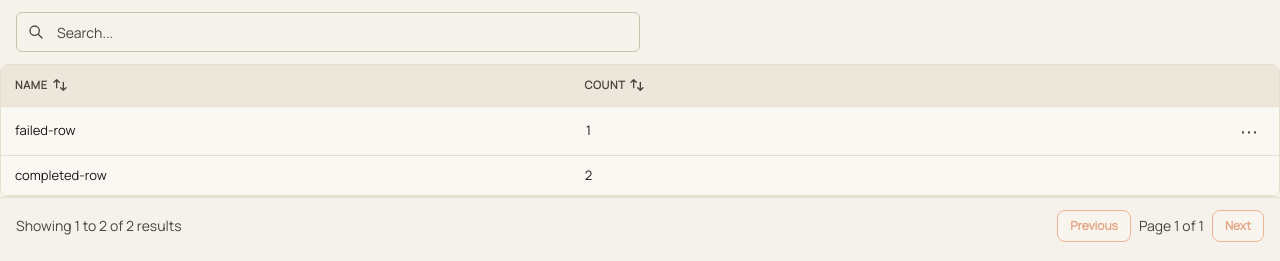
DataTable row actions menu › opens a dropdown listing the actions and runs the chosen one
Step 1. Click the button named "Actions" → [1249, 130], box x1=1233 y1=116 x2=1265 y2=144
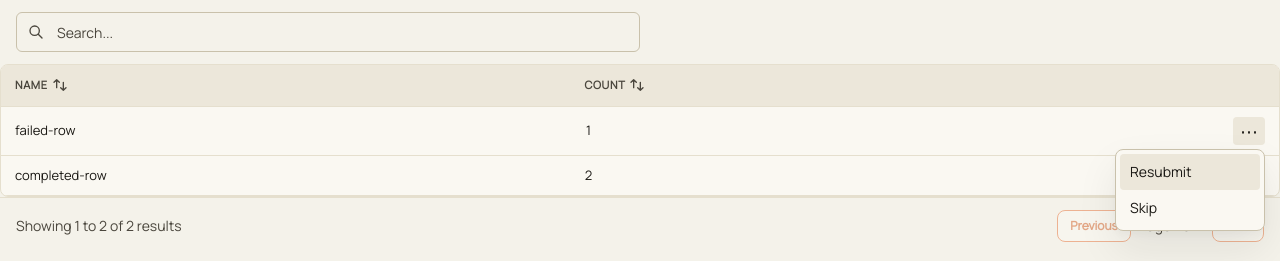
Check: the menu item "Skip" is shown, box x1=1120 y1=190 x2=1260 y2=226
Step 2. Click the menu item "Resubmit" → [1190, 172], box x1=1120 y1=154 x2=1260 y2=190
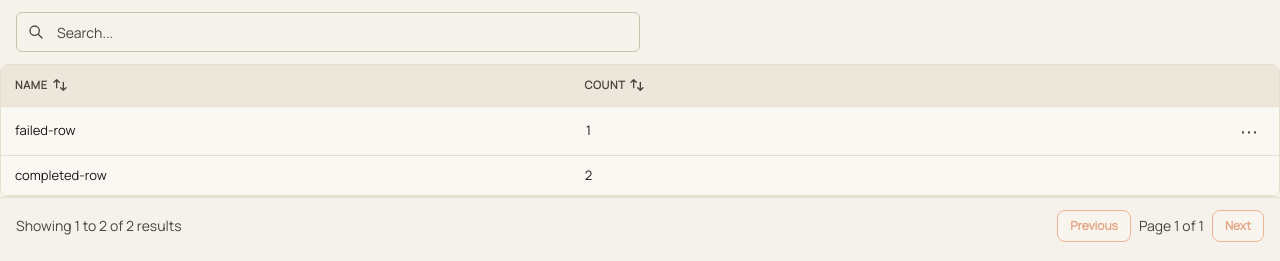
Check: the menu is gone
